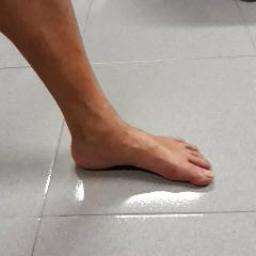Medial View -Left Foot-: (47, 96, 232, 199)
